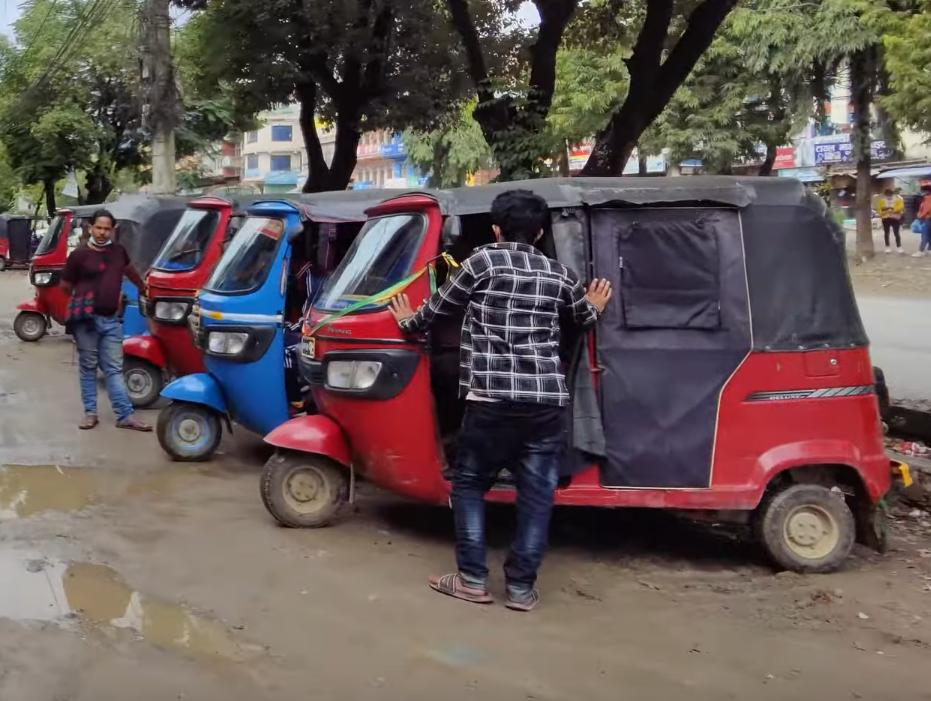auto_rickshaw: (256, 168, 894, 574), (149, 182, 385, 476), (106, 177, 257, 413)
